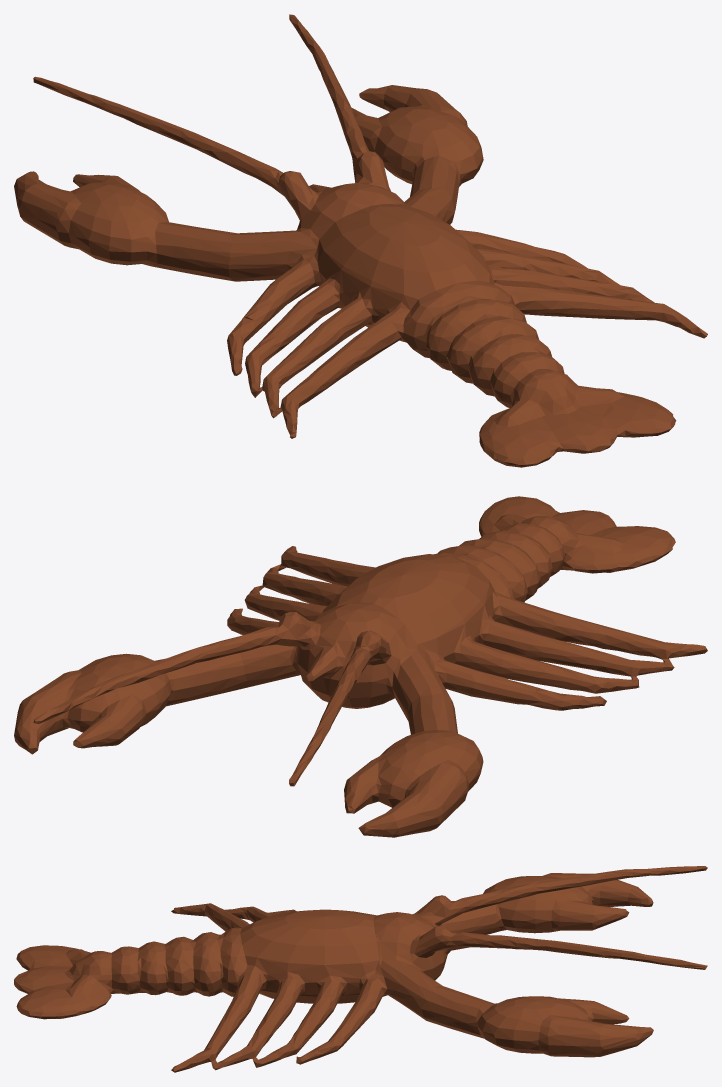
File: NEW_RECOVERY_028_LOD1.fbx
The picture shows the model from 3 angles, top to bottom: view 1: azimuth 30°, elevation 25°; view 2: azimuth 150°, elevation 25°; view 3: azimuth 270°, elevation 25°; orthographic projection. The views are drawn at different scales.
Visible parts, largest first — view 1: Lobster_whole_LOD1; view 2: Lobster_whole_LOD1; view 3: Lobster_whole_LOD1.
Part boxes in pixels (left/top/right/bottom): Lobster_whole_LOD1: left=14, top=14, right=707, bottom=467; Lobster_whole_LOD1: left=14, top=496, right=707, bottom=837; Lobster_whole_LOD1: left=14, top=866, right=707, bottom=1072.
Size of the model in its own units: 457 by 818 by 113.
